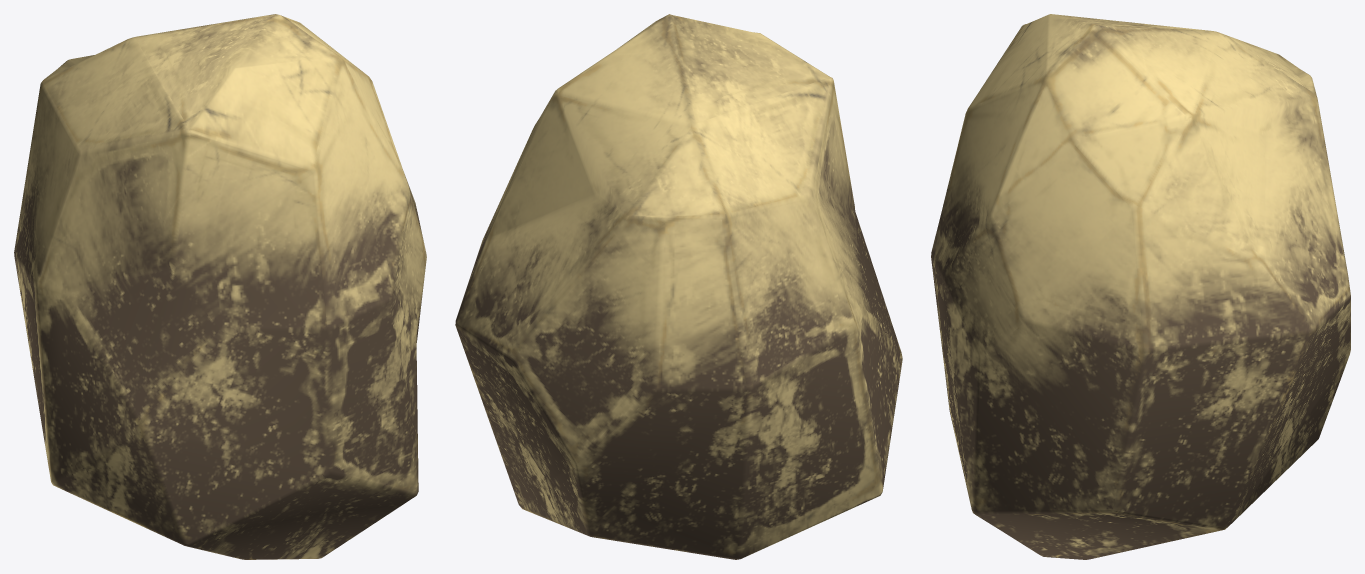
The model's file is GoldenNugget3.fbx.
The picture shows the model from 3 angles, left to right: view 1: azimuth 30°, elevation 25°; view 2: azimuth 150°, elevation 25°; view 3: azimuth 270°, elevation 25°; orthographic projection.
Visible parts, largest first — view 1: nug2.004; view 2: nug2.004; view 3: nug2.004.
Boxes of the visible parts, x1,y1,x2,y2 form: nug2.004: [14, 14, 426, 559]; nug2.004: [455, 14, 902, 559]; nug2.004: [931, 14, 1350, 559].
Bounding box in the file's own units: 6.47 × 6.72 × 8.96.
